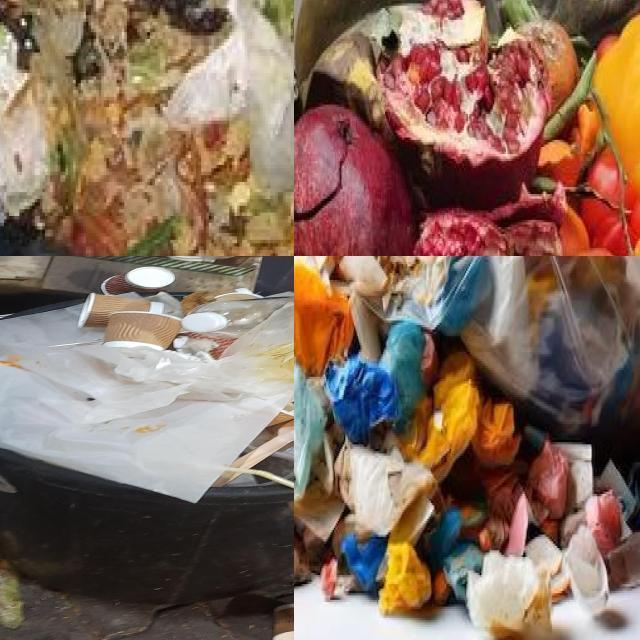Disposable: (255, 447, 294, 481), (229, 475, 269, 487)
Garbage: (294, 256, 640, 640), (294, 0, 640, 256), (0, 256, 294, 501)
Plastic_Bag: (294, 256, 640, 441), (236, 0, 294, 194), (222, 302, 294, 382), (294, 363, 327, 499)
Plastic_Straw: (225, 467, 294, 489)
Plastic_bottle: (182, 293, 294, 335)
